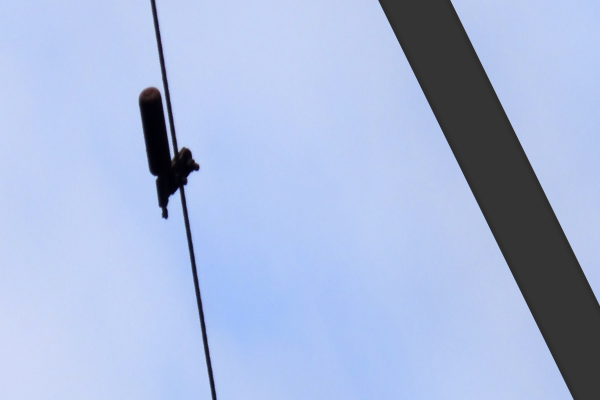damper_defect: (135, 84, 203, 226)
